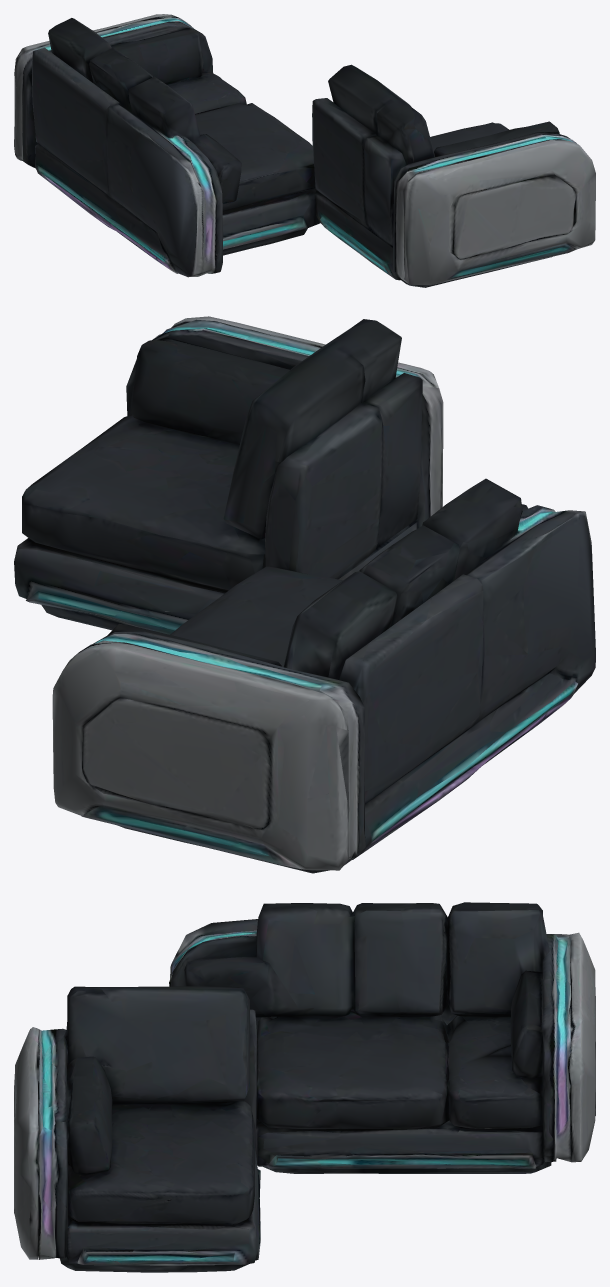
The model's file is au_furn_sofa_cyber.glb.
3 views of the same model, one above another, from view 1: azimuth 30°, elevation 25°; view 2: azimuth 150°, elevation 25°; view 3: azimuth 270°, elevation 25° (orthographic). The views are drawn at different scales.
Visible parts, largest first — view 1: tripo_node_6d0dafd1-b2bf-4917-b9d2-8505bf0c64a3; view 2: tripo_node_6d0dafd1-b2bf-4917-b9d2-8505bf0c64a3; view 3: tripo_node_6d0dafd1-b2bf-4917-b9d2-8505bf0c64a3.
Boxes of the visible parts, box(x1,y1,x2,y2) form: tripo_node_6d0dafd1-b2bf-4917-b9d2-8505bf0c64a3: box(14, 14, 595, 287); tripo_node_6d0dafd1-b2bf-4917-b9d2-8505bf0c64a3: box(14, 316, 595, 873); tripo_node_6d0dafd1-b2bf-4917-b9d2-8505bf0c64a3: box(14, 902, 595, 1272).
Size of the model in its own units: 0.8188 by 0.3795 by 0.9778.
1 material, 1 textured.
